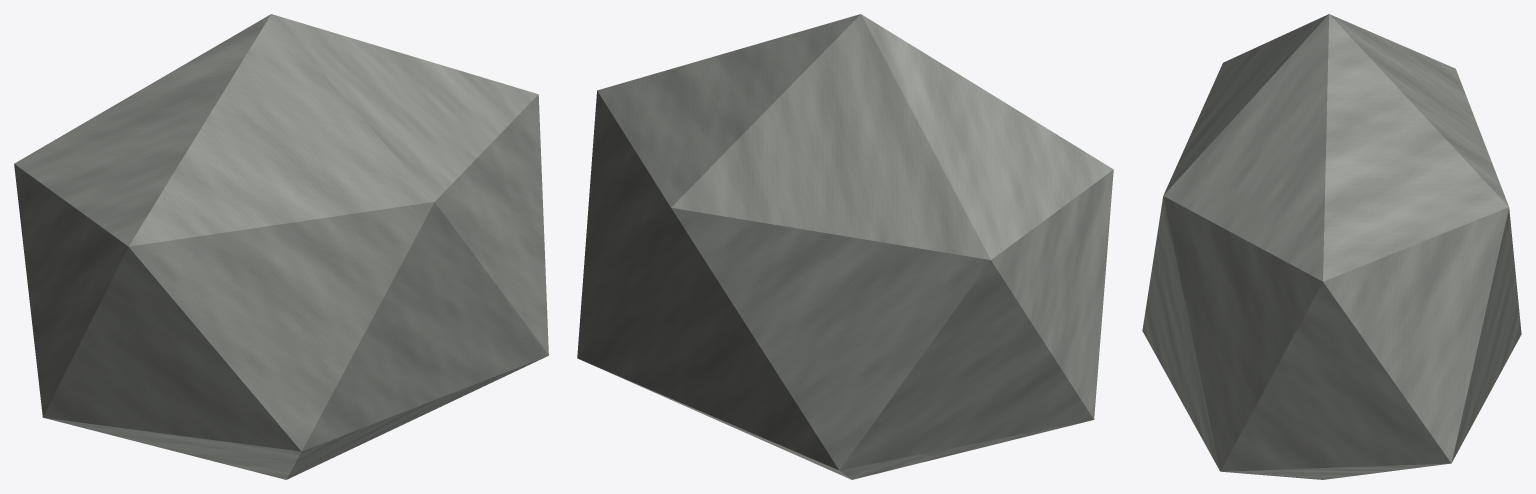
Rendered from rock_03.glb.
The picture shows the model from 3 angles, left to right: view 1: azimuth 30°, elevation 25°; view 2: azimuth 150°, elevation 25°; view 3: azimuth 270°, elevation 25°; orthographic projection. The views are drawn at different scales.
Visible parts, largest first — view 1: rock_03; view 2: rock_03; view 3: rock_03.
Part boxes in pixels (box(x1,y1,x2,y2)): rock_03: box(14, 14, 548, 479); rock_03: box(577, 14, 1113, 479); rock_03: box(1142, 14, 1521, 479).
Size of the model in its own units: 2.44 by 2.21 by 1.65.
1 material, 1 textured.
